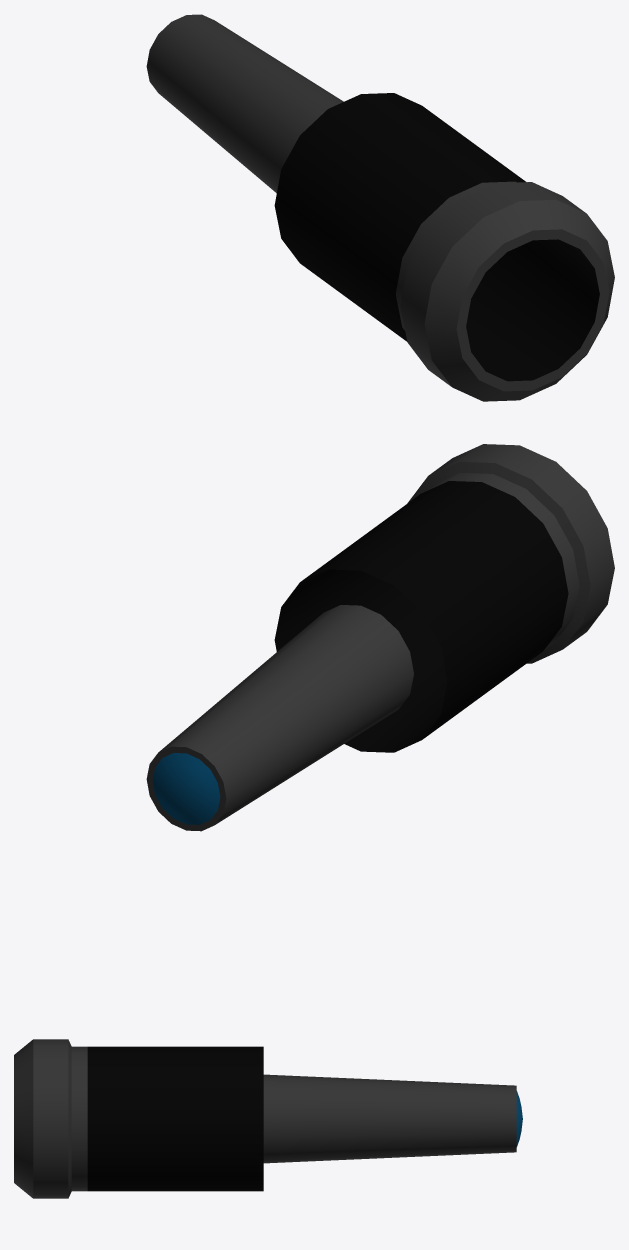
File: TankSight_wedge_1x2.fbx
The picture shows the model from 3 angles, top to bottom: view 1: azimuth 30°, elevation 25°; view 2: azimuth 150°, elevation 25°; view 3: azimuth 270°, elevation 25°; orthographic projection. The views are drawn at different scales.
Visible parts, largest first — view 1: Cube; view 2: Cube; view 3: Cube.
Part boxes in pixels (box(x1,y1,x2,y2)): Cube: box(146, 14, 614, 401); Cube: box(146, 444, 614, 831); Cube: box(14, 1039, 522, 1198).
Bounding box in the file's own units: 1 × 1 × 3.42.
